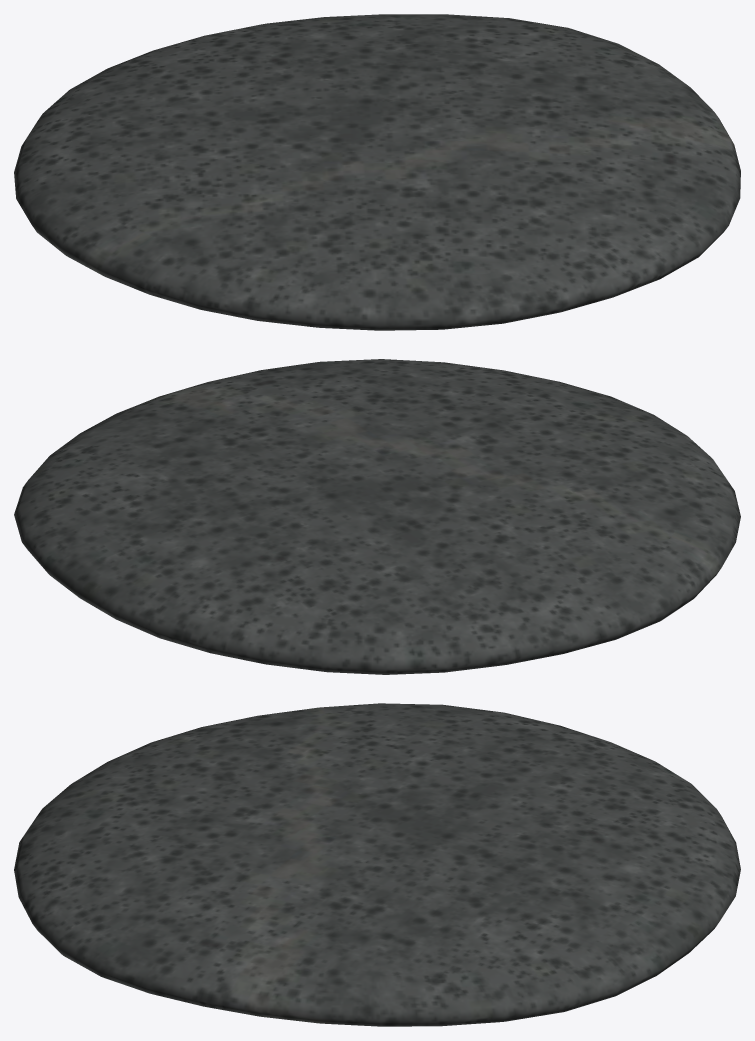
File: heavy_basalt_03.glb
The picture shows the model from 3 angles, top to bottom: view 1: azimuth 30°, elevation 25°; view 2: azimuth 150°, elevation 25°; view 3: azimuth 270°, elevation 25°; orthographic projection. The views are drawn at different scales.
Parts seen in each view (by area): view 1: heavy_basalt_03; view 2: heavy_basalt_03; view 3: heavy_basalt_03.
Part boxes in pixels (bbox=[...]): heavy_basalt_03: bbox=[14, 14, 740, 330]; heavy_basalt_03: bbox=[14, 359, 740, 674]; heavy_basalt_03: bbox=[14, 703, 740, 1026].
Size of the model in its own units: 0.0863 by 0.0108 by 0.0851.
1 material, 1 textured.
